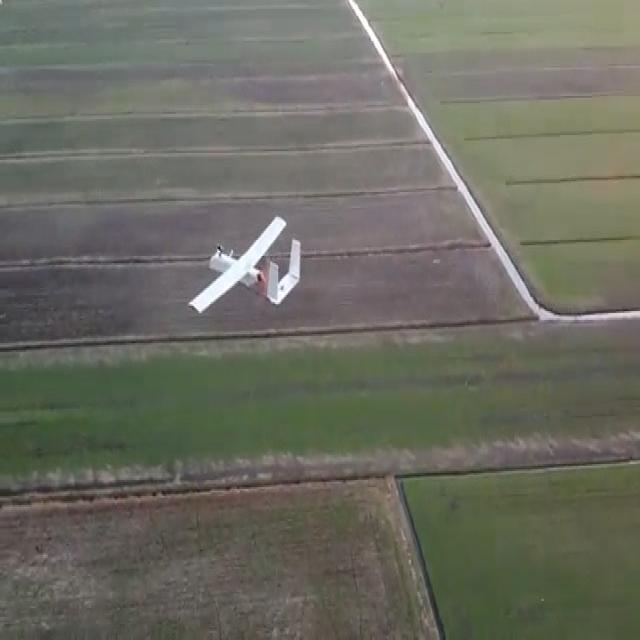drones: (185, 207, 306, 335)
